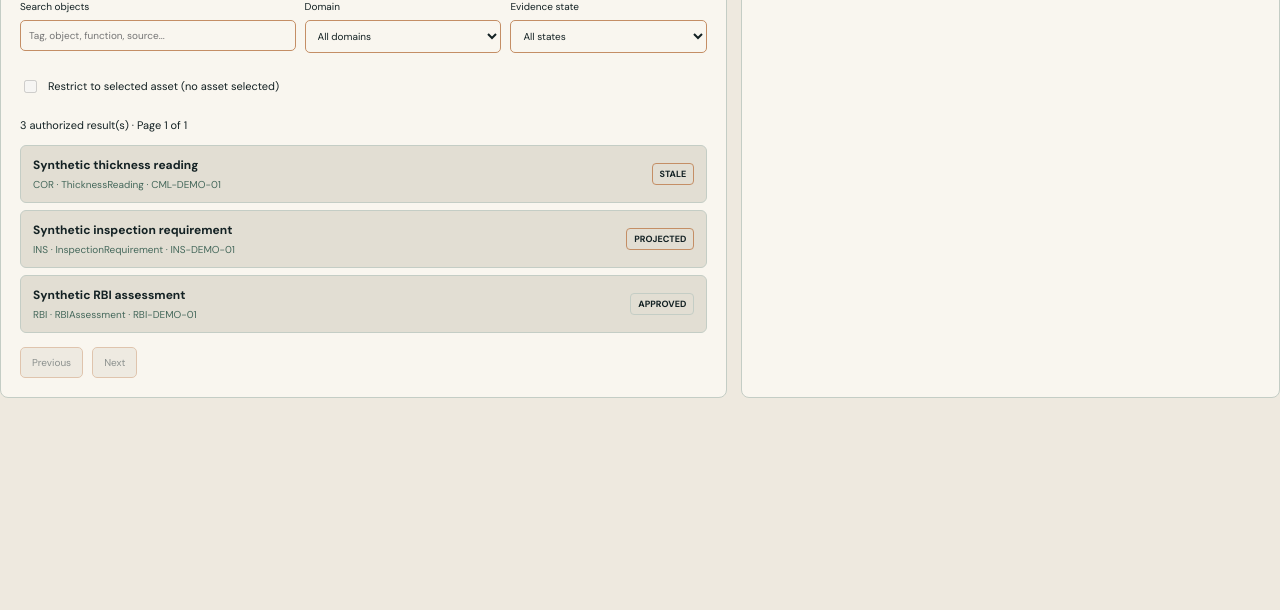
Test: Phase 19 — shared dossier inside Universal Search › switches source-backed revision history within the search inspector
The width and height of the screenshot is (1280, 610).
Click the button "Synthetic RBI assessment": (109, 295) [20,275,707,333]
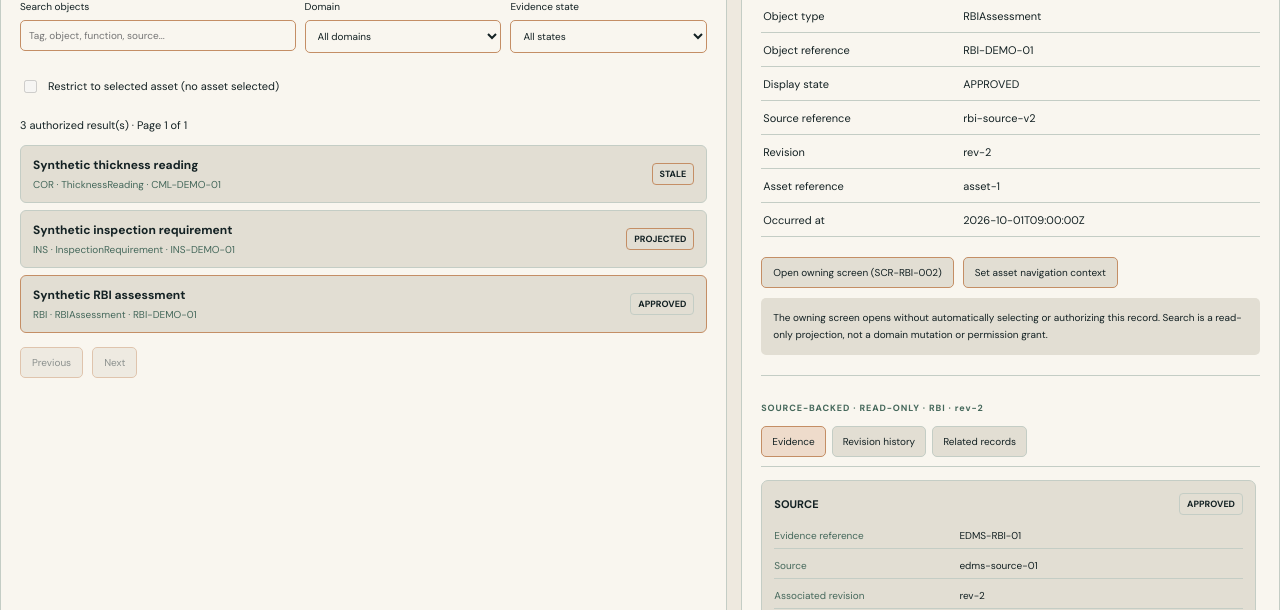
Click the button "Revision history": (879, 442) [832,426,926,457]
(page scrolled)
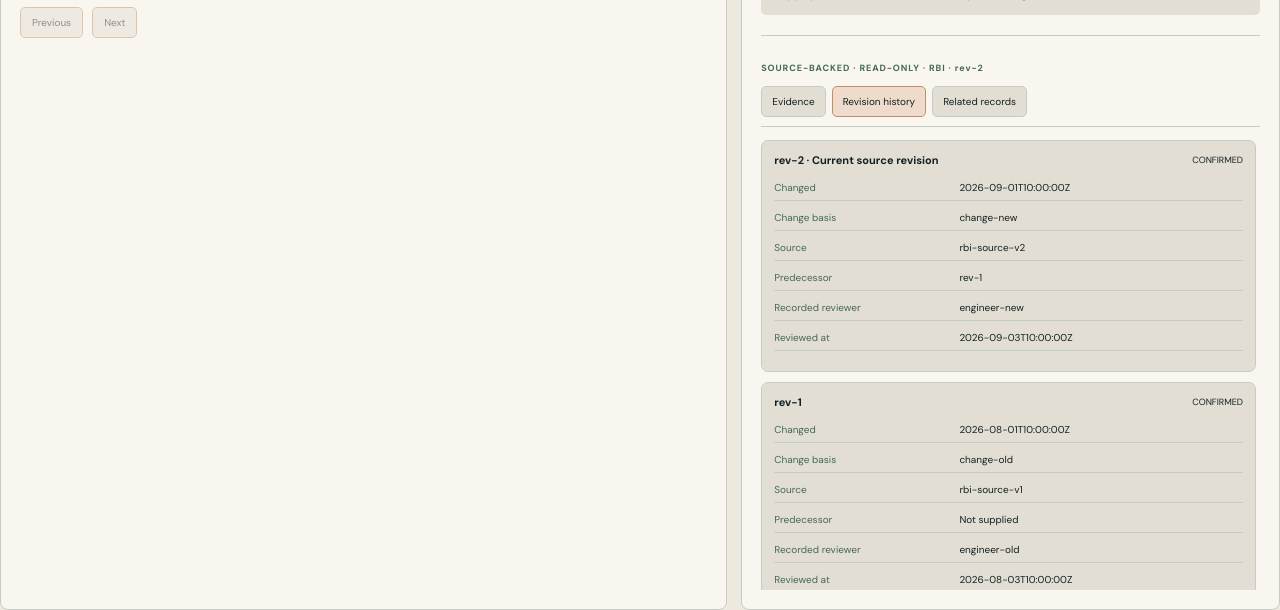
expect the text "engineer-new" is shown: met, box [959,301,1024,314]
